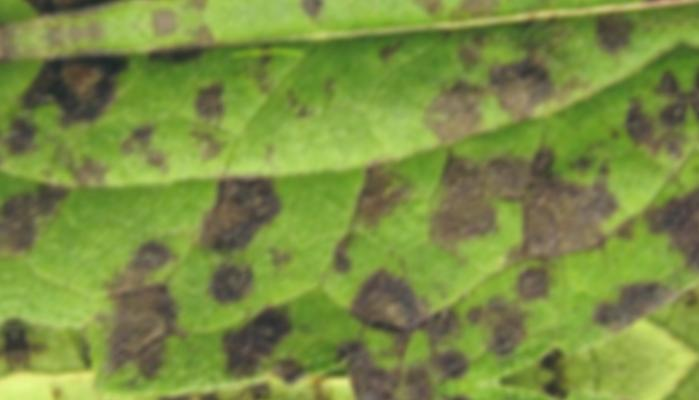Tomato Septoria leaf spot: (0, 0, 699, 400), (5, 171, 699, 400)
